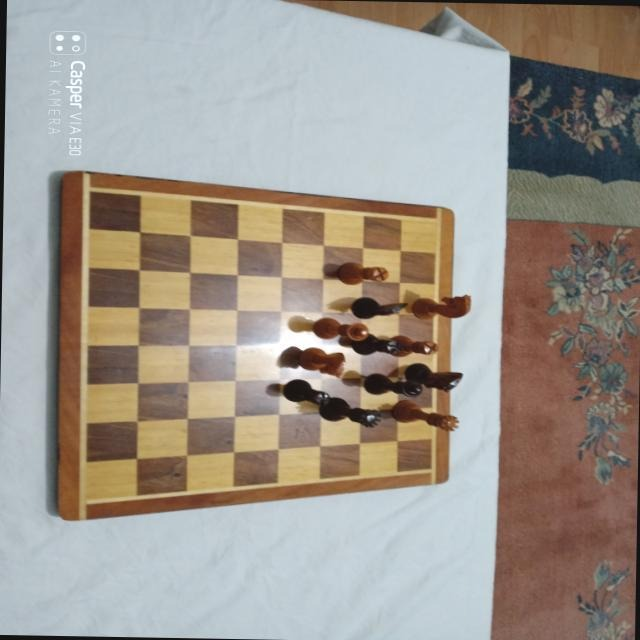black-king: (362, 373, 422, 397)
black-knight: (403, 363, 463, 393), (349, 296, 407, 319)
black-queen: (317, 396, 381, 427)
black-rook: (282, 379, 330, 405), (349, 332, 402, 355)
white-king: (312, 317, 368, 342)
white-knight: (412, 292, 472, 319), (297, 346, 346, 377)
white-queen: (391, 400, 460, 432)
white-rook: (338, 261, 388, 286), (387, 335, 439, 358)
